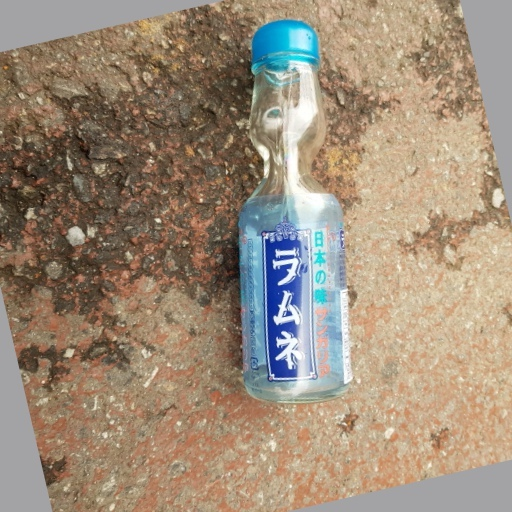Glass_4: (242, 22, 353, 408)
